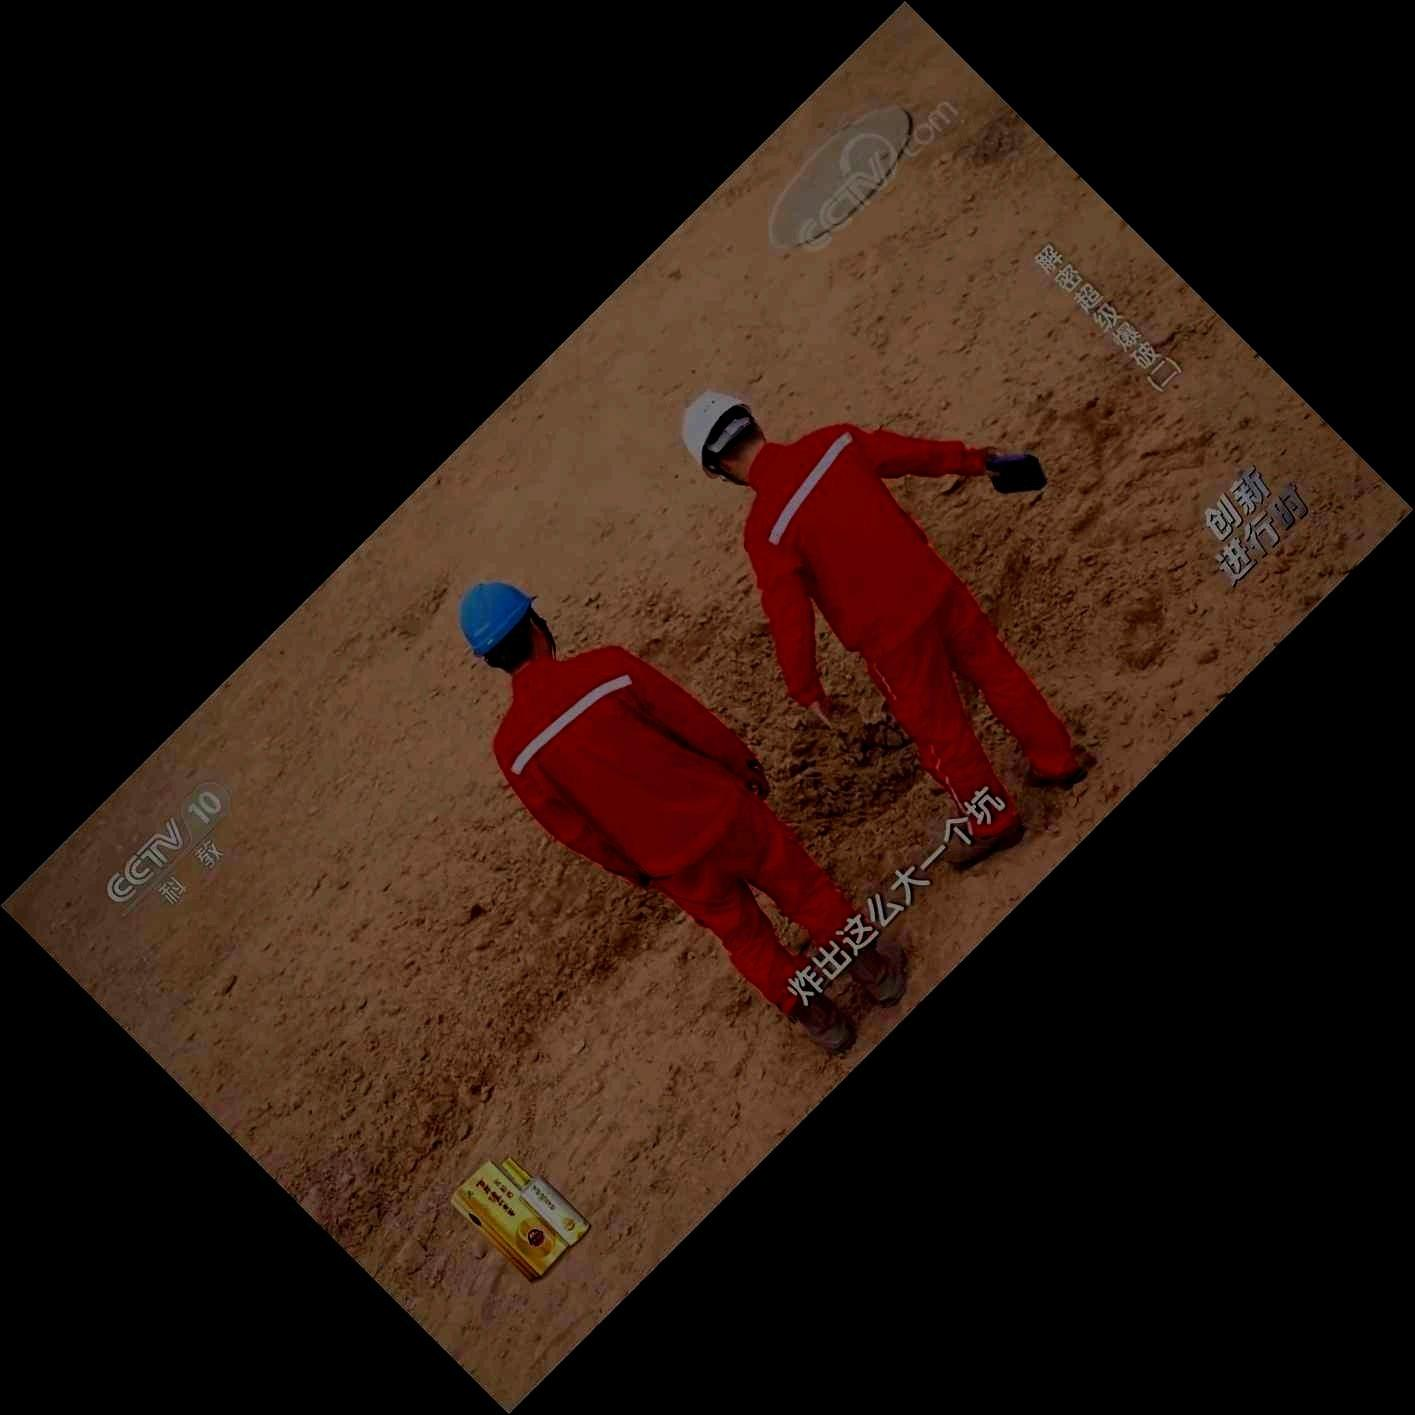helmet: (457, 581, 556, 674), (679, 389, 768, 487)
